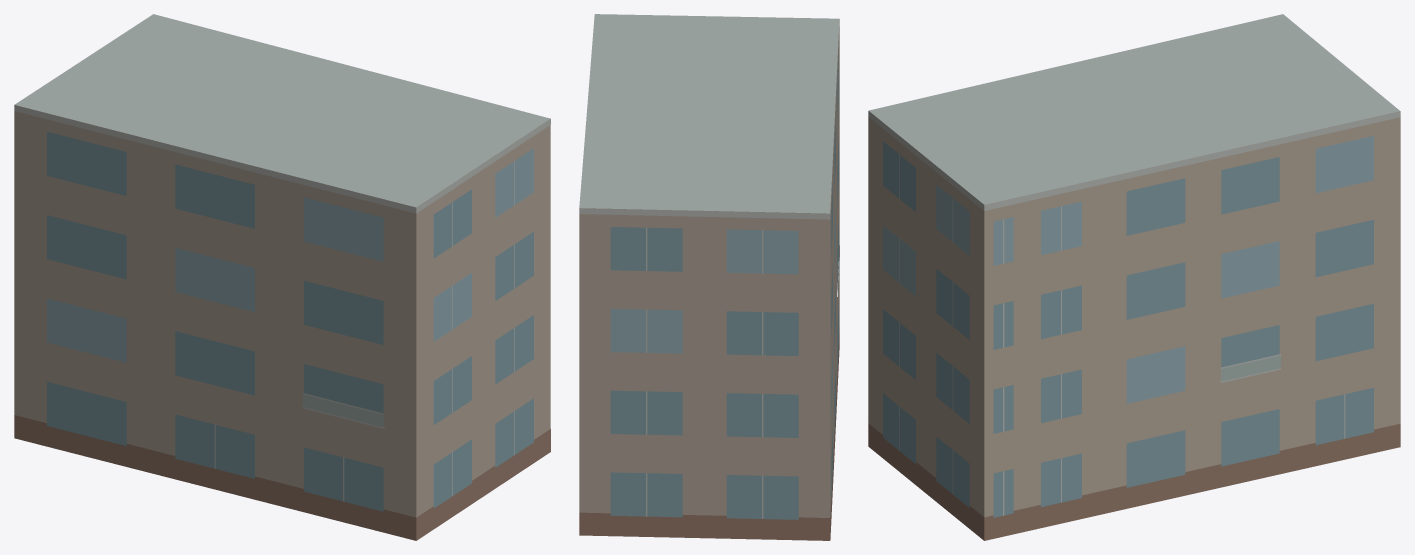
File: survey-upis-32698288.glb
The picture shows the model from 3 angles, left to right: view 1: azimuth 30°, elevation 25°; view 2: azimuth 150°, elevation 25°; view 3: azimuth 270°, elevation 25°; orthographic projection. The views are drawn at different scales.
Visible parts, largest first — view 1: survey-upis-32698288.tmp; view 2: survey-upis-32698288.tmp; view 3: survey-upis-32698288.tmp.
Part boxes in pixels (left/top/right/bottom): survey-upis-32698288.tmp: left=14, top=14, right=550, bottom=540; survey-upis-32698288.tmp: left=579, top=14, right=839, bottom=540; survey-upis-32698288.tmp: left=868, top=14, right=1400, bottom=540.
Bounding box in the file's own units: 16.23 × 13.31 × 19.11.
